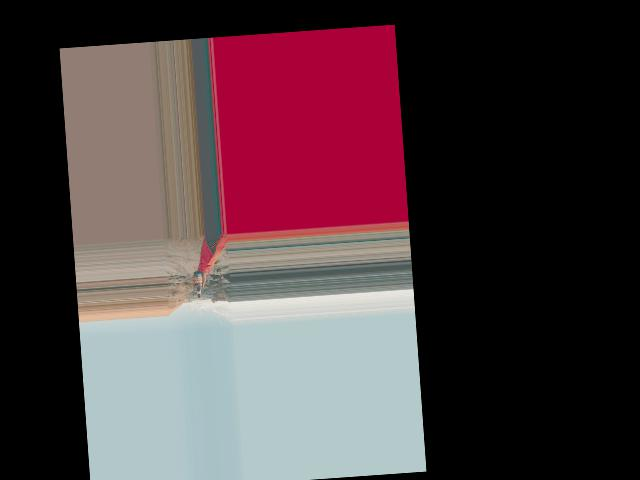beer: (192, 271, 204, 298)
